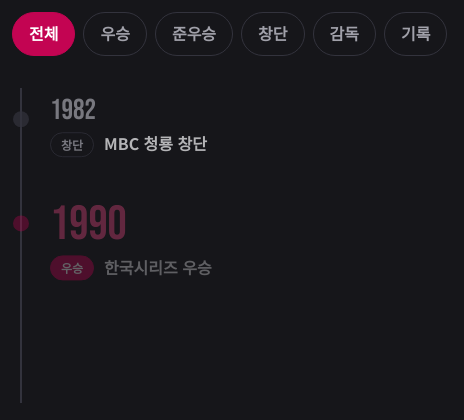
HistoryExplorer › filters the timeline when a category is selected
Click the button "우승".
click(115, 34)  # box left=84, top=12, right=147, bottom=56
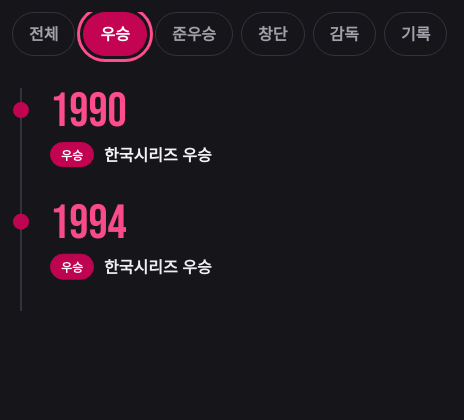
Expected: the text "한국시리즈 우승" is shown 2 times, left=104, top=142, right=212, bottom=167; left=104, top=254, right=212, bottom=280
Now the text "MBC 청룡 창단" is gone
